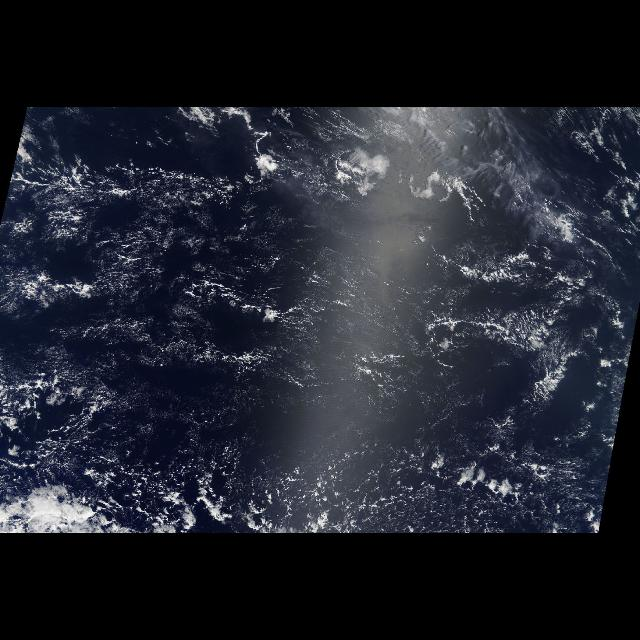Gravel: (25, 443, 588, 533)
Sugar: (6, 169, 468, 485)
